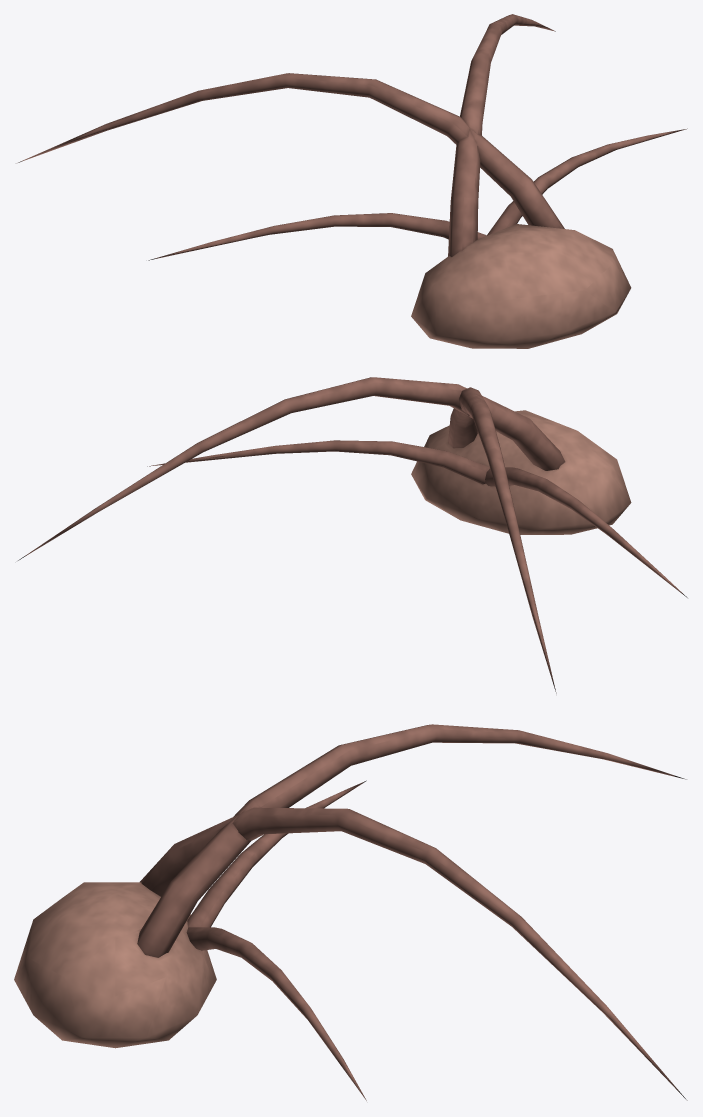
File: cpart_barbels.glb
3 views of the same model, one above another, from view 1: azimuth 30°, elevation 25°; view 2: azimuth 150°, elevation 25°; view 3: azimuth 270°, elevation 25° (orthographic). The views are drawn at different scales.
Visible parts, largest first — view 1: Barbels; view 2: Barbels; view 3: Barbels.
Boxes of the visible parts, left/top/right/bottom form: Barbels: left=16, top=14, right=687, bottom=348; Barbels: left=18, top=377, right=687, bottom=693; Barbels: left=14, top=724, right=687, bottom=1100.
Bounding box in the file's own units: 0.1804 × 0.0574 × 0.1597.
2 materials, 2 textured.
